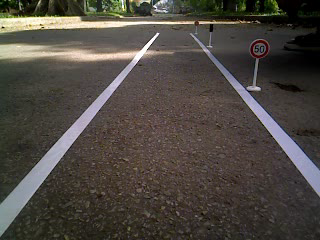limit 50: (249, 37, 271, 61)
